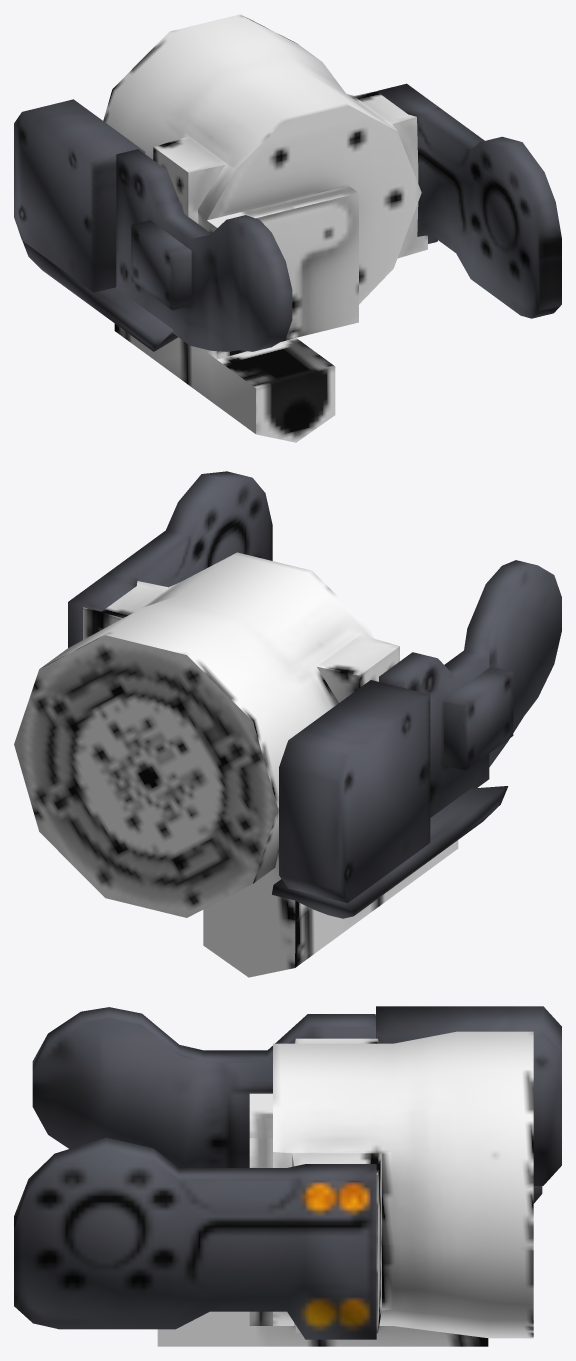
Rendered from l_larm.dae.
The picture shows the model from 3 angles, top to bottom: view 1: azimuth 30°, elevation 25°; view 2: azimuth 150°, elevation 25°; view 3: azimuth 270°, elevation 25°; orthographic projection. The views are drawn at different scales.
Visible parts, largest first — view 1: l_larm; view 2: l_larm; view 3: l_larm.
Part boxes in pixels (bbox=[...]): l_larm: bbox=[14, 14, 561, 442]; l_larm: bbox=[14, 471, 561, 977]; l_larm: bbox=[14, 1006, 561, 1346].
Bounding box in the file's own units: 0.1433 × 0.1854 × 0.1245.
1 material, 1 textured.
